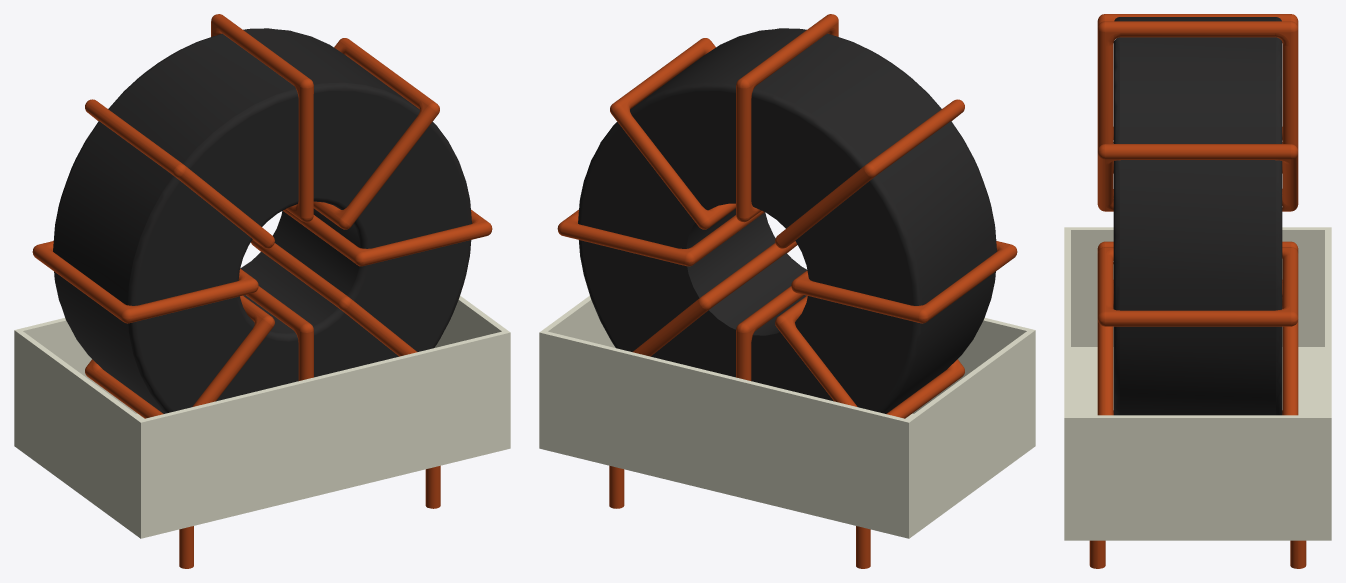
Rendered from kc-l_commonmode_toroid_vertical_l34.3mm_w20.3mm_px15.24mm_py22.86mm_bourns_8100.glb.
3 views of the same model, side by side, from view 1: azimuth 30°, elevation 25°; view 2: azimuth 150°, elevation 25°; view 3: azimuth 270°, elevation 25° (orthographic). The views are drawn at different scales.
Visible parts, largest first — view 1: 0_0_0_0, 0.75_0.75_0.6666666666666666_0, 0.4166666666666667_0.08333333333333333_0_0; view 2: 0_0_0_0, 0.75_0.75_0.6666666666666666_0, 0.4166666666666667_0.08333333333333333_0_0; view 3: 0_0_0_0, 0.75_0.75_0.6666666666666666_0, 0.4166666666666667_0.08333333333333333_0_0.
Boxes of the visible parts, x1,y1,x2,y2 form: 0_0_0_0: [53, 28, 471, 413]; 0.75_0.75_0.6666666666666666_0: [14, 295, 510, 538]; 0.4166666666666667_0.08333333333333333_0_0: [32, 14, 492, 568]; 0_0_0_0: [578, 28, 996, 413]; 0.75_0.75_0.6666666666666666_0: [539, 295, 1035, 538]; 0.4166666666666667_0.08333333333333333_0_0: [557, 14, 1017, 568]; 0_0_0_0: [1113, 17, 1282, 415]; 0.75_0.75_0.6666666666666666_0: [1064, 227, 1331, 540]; 0.4166666666666667_0.08333333333333333_0_0: [1089, 14, 1306, 568].
Bounding box in the file's own units: 3.43 × 4.02 × 2.03.
